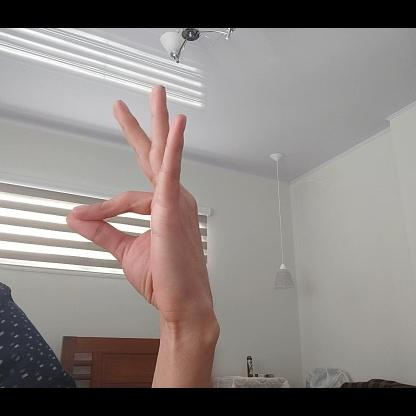F: (64, 82, 216, 328)
